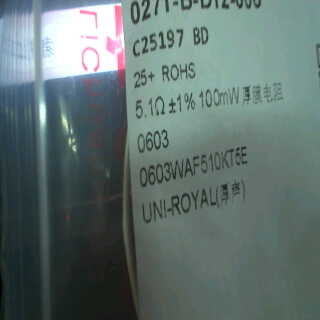5.1R: (129, 94, 170, 120)
